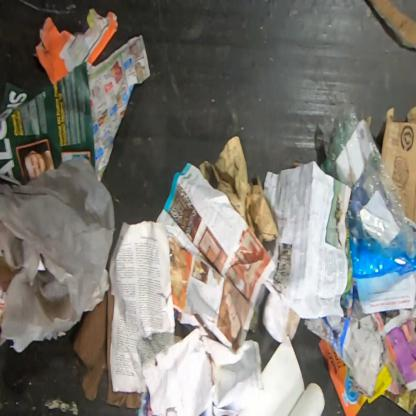cardboard: (381, 104, 415, 225), (368, 0, 415, 50)
soft_plastic: (0, 158, 116, 342), (315, 100, 415, 280)
